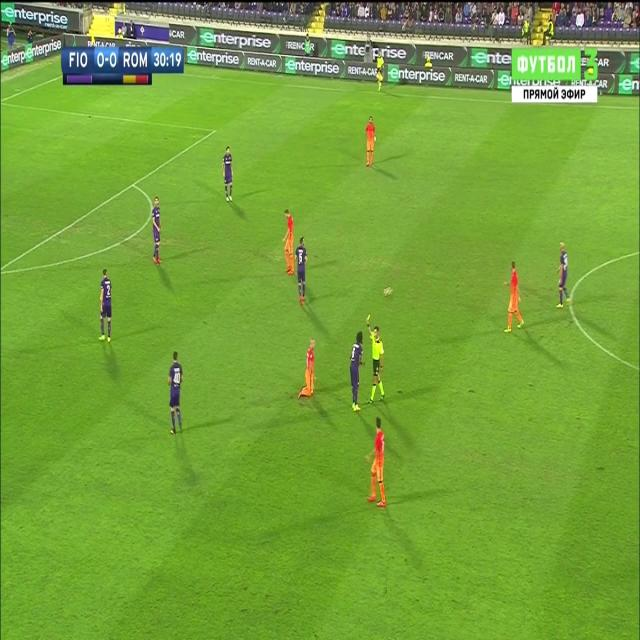Ball: (382, 282, 396, 300)
Player: (365, 416, 388, 512), (502, 258, 526, 338), (347, 330, 366, 413), (295, 335, 317, 403), (167, 351, 184, 438), (97, 266, 114, 348), (555, 241, 572, 312), (295, 234, 309, 308), (150, 194, 162, 271), (222, 144, 236, 204), (282, 208, 294, 278), (362, 116, 378, 168)
Referee: (366, 314, 387, 406), (376, 50, 384, 92)
